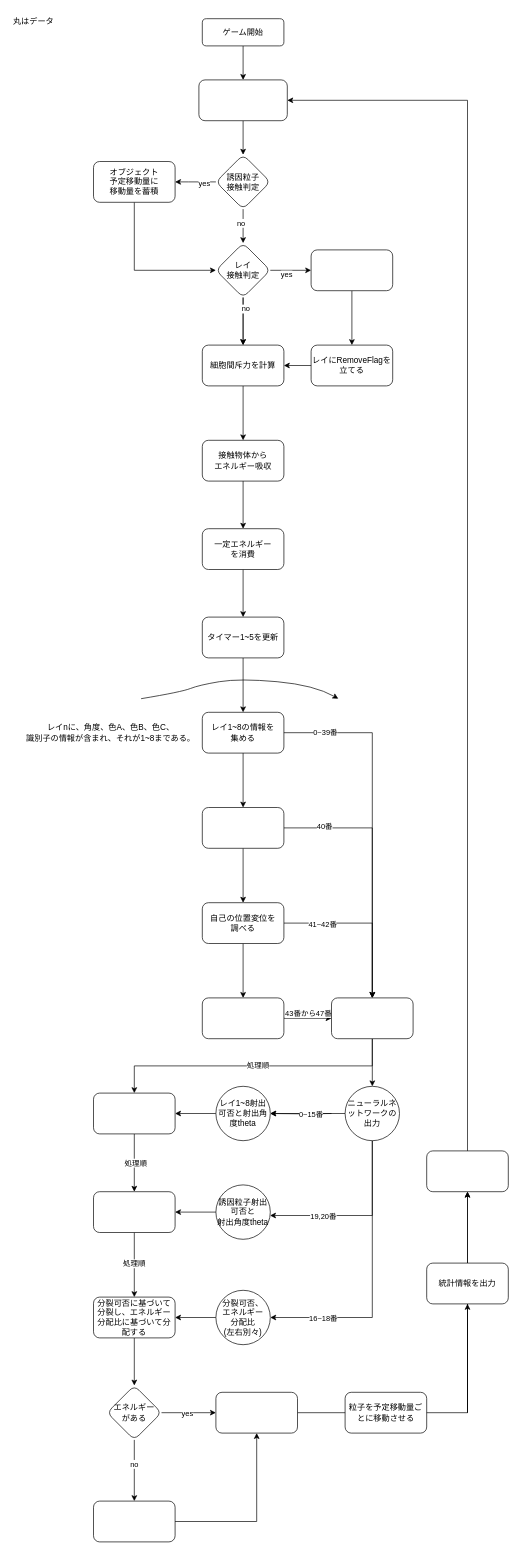
Image size: 520x1554. Some labels were removed from this diagram. Each missing label, with the centre of its shape:
RemoveFlagが立っているオブジェクトを削除: [467,1171]
エネルギープールから 食料を生成: [242,100]
オブジェクトに 予定移動量を反映: [256,1412]
レイ1~8射出可否に基づきレイを角度thetaで射出: [134,1113]
レイに 接触先の情報を追加: [351,270]
情報をニューラルネットワークに入力: [372,1018]
時計1~5の状態を 調べる: [243,1018]
細胞にRemoveFlag を立てる: [134,1521]
自己のエネルギー量を調べる: [243,827]
誘因粒子射出可否に基づき、誘因粒子を角度thetaで射出: [134,1211]
